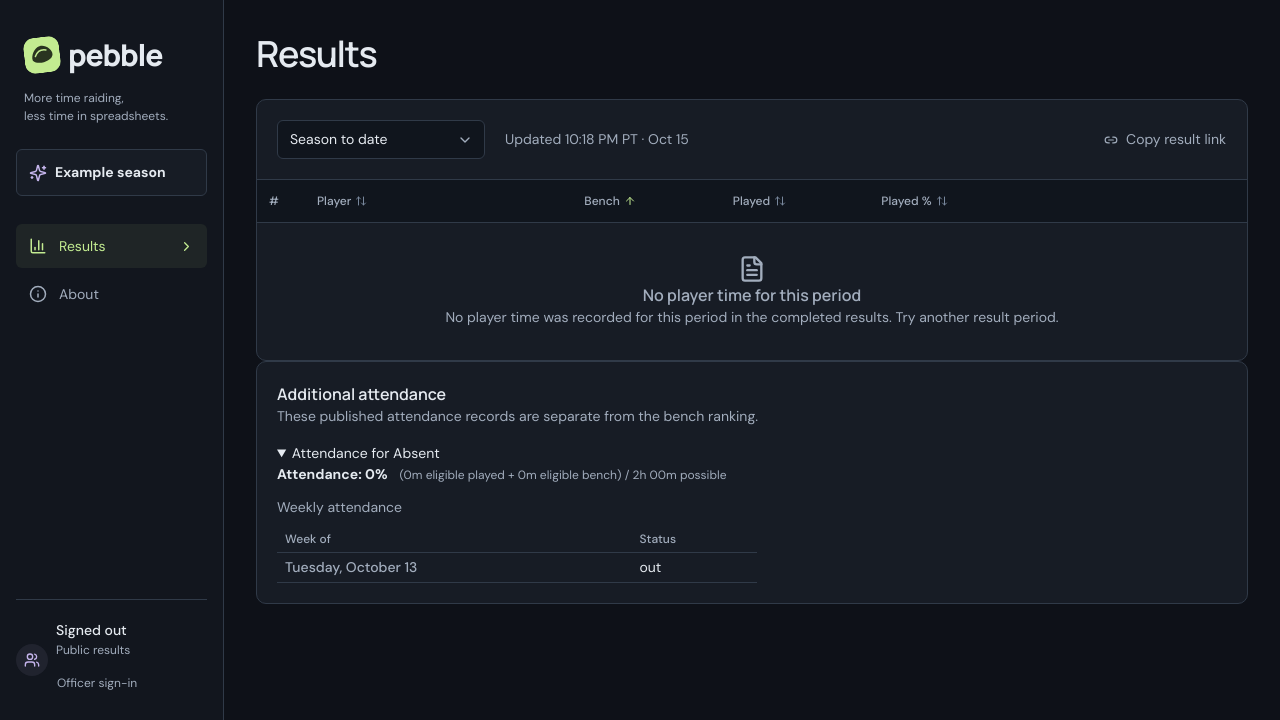
Test case: exposes published attendance for zero-time players outside ranked rows and only in the season view
Check: the text "0%" is shown, box x1=365 y1=465 x2=388 y2=483
Select "Thursday, October 15" in the dropdown named "Result period" at (381, 140), box x1=277 y1=120 x2=485 y2=159
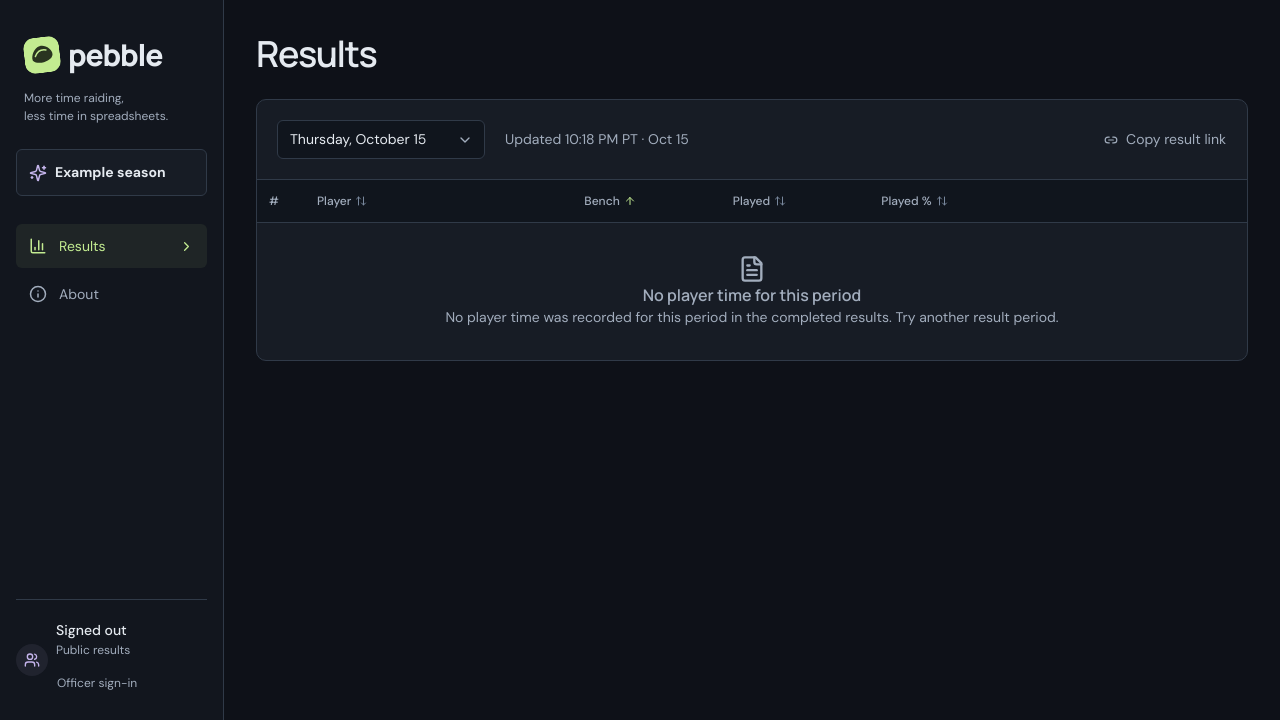
Check: the heading "Additional attendance" is gone
